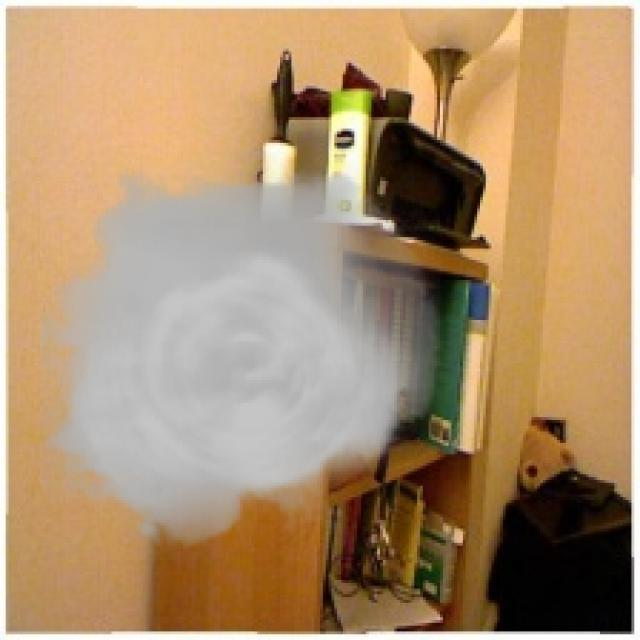Smoke: (40, 151, 443, 560)
